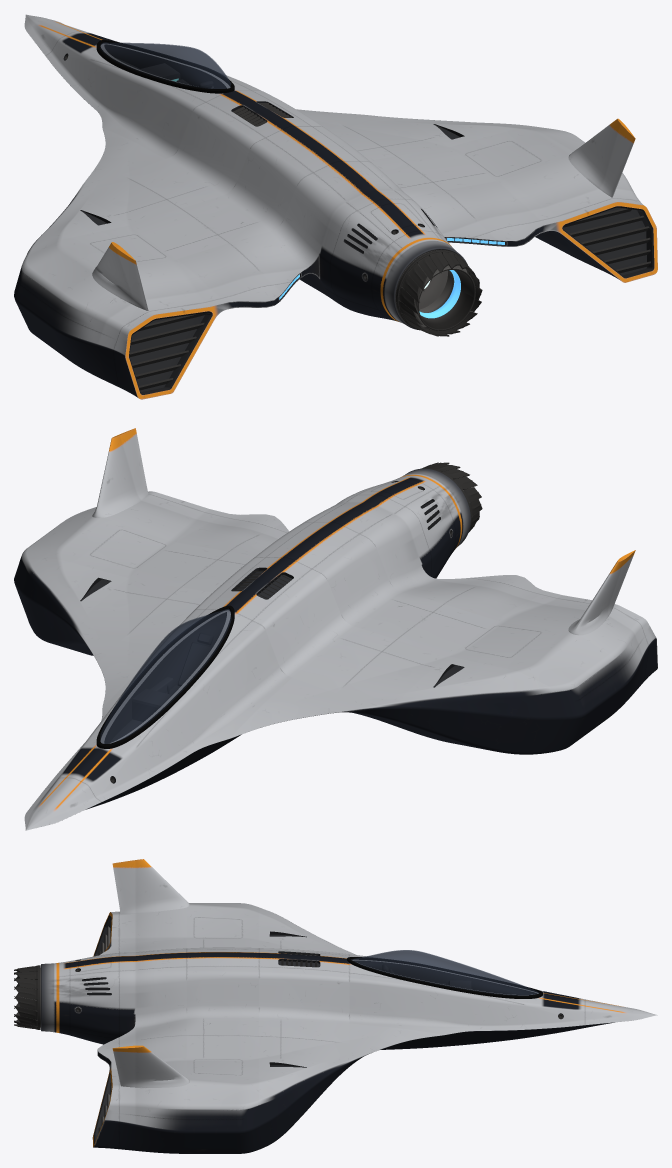
File: rocket_web_2k.glb
3 views of the same model, one above another, from view 1: azimuth 30°, elevation 25°; view 2: azimuth 150°, elevation 25°; view 3: azimuth 270°, elevation 25° (orthographic). The views are drawn at different scales.
Parts seen in each view (by area): view 1: Hull, Canopy, Fin_R, Engine, Fin_L, ExitVanes_R, ExitVanes_L; view 2: Hull, Canopy, Fin_R, Cockpit, Fin_L; view 3: Hull, Canopy, Fin_L, Fin_R.
Boxes of the visible parts, x1,y1,x2,y2 form: Hull: (14,14,657,399); Canopy: (96,40,234,93); Fin_R: (568,118,635,197); Engine: (396,251,475,330); Fin_L: (92,242,148,310); ExitVanes_R: (563,208,650,273); ExitVanes_L: (129,313,207,390); Hull: (14,468,657,830); Canopy: (96,605,234,748); Fin_R: (92,428,148,517); Cockpit: (132,632,213,721); Fin_L: (568,550,635,635); Hull: (41,903,657,1153); Canopy: (347,950,542,998); Fin_L: (112,859,189,914); Fin_R: (112,1045,189,1087).
Size of the model in its own units: 10.3 by 2.35 by 13.34.
Materials: 9 (1 with a texture image).
